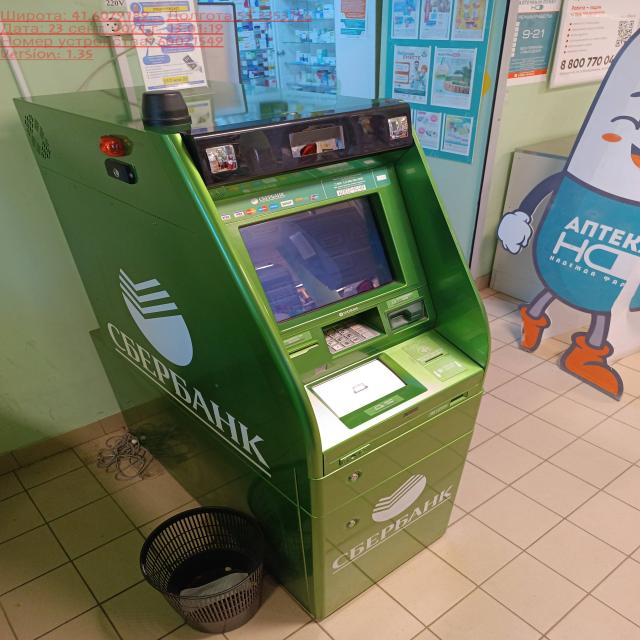bank: (19, 85, 487, 617)
